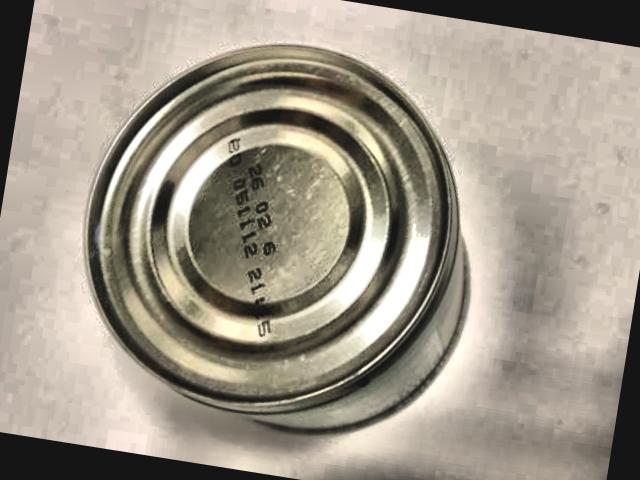Almennt: (37, 0, 533, 480)
